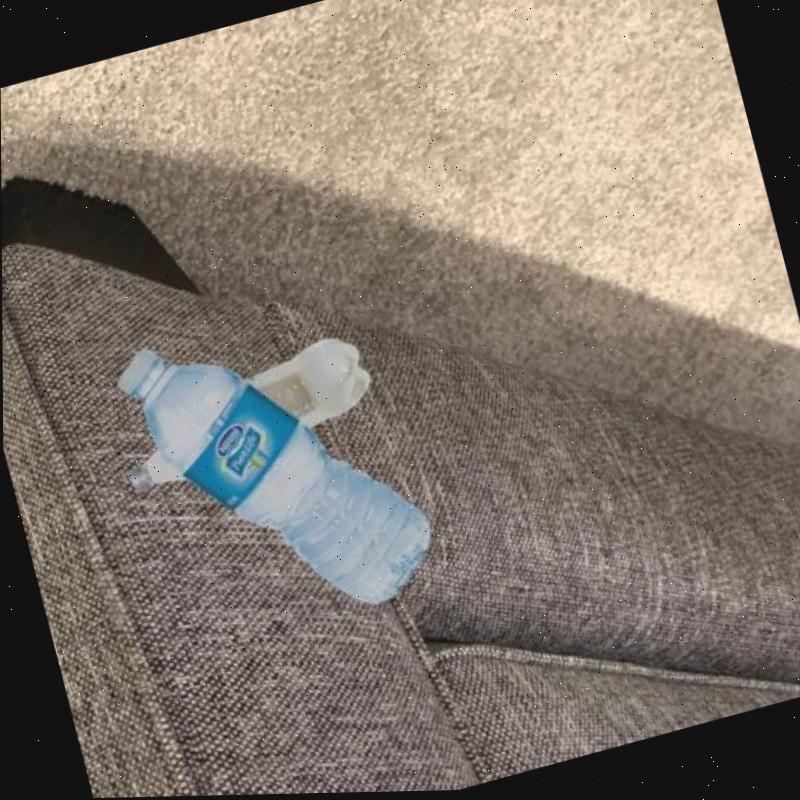botella: (107, 282, 448, 662), (106, 328, 384, 502)
